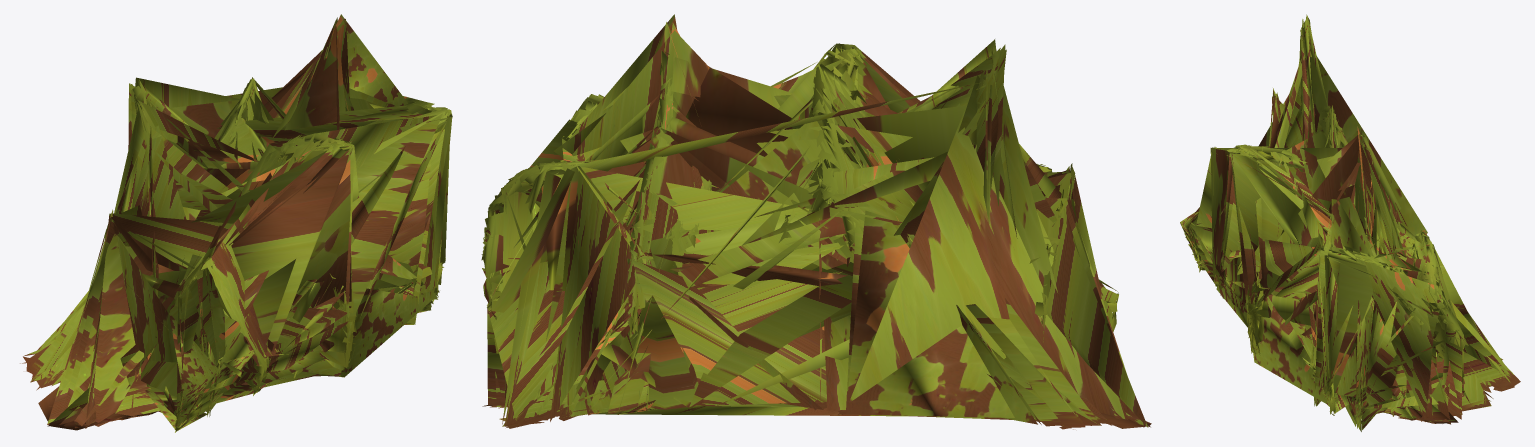
Rendered from reeds.glb.
3 views of the same model, side by side, from view 1: azimuth 30°, elevation 25°; view 2: azimuth 150°, elevation 25°; view 3: azimuth 270°, elevation 25° (orthographic). The views are drawn at different scales.
Parts seen in each view (by area): view 1: tripo_node_4e92c342-faa3-4feb-958b-ee217f8ed936; view 2: tripo_node_4e92c342-faa3-4feb-958b-ee217f8ed936; view 3: tripo_node_4e92c342-faa3-4feb-958b-ee217f8ed936.
Boxes of the visible parts, x1,y1,x2,y2 form: tripo_node_4e92c342-faa3-4feb-958b-ee217f8ed936: [20, 14, 452, 432]; tripo_node_4e92c342-faa3-4feb-958b-ee217f8ed936: [481, 14, 1151, 429]; tripo_node_4e92c342-faa3-4feb-958b-ee217f8ed936: [1180, 14, 1520, 431].
Size of the model in its own units: 0.4672 by 0.3273 by 0.3597.
Materials: 1 (1 with a texture image).
